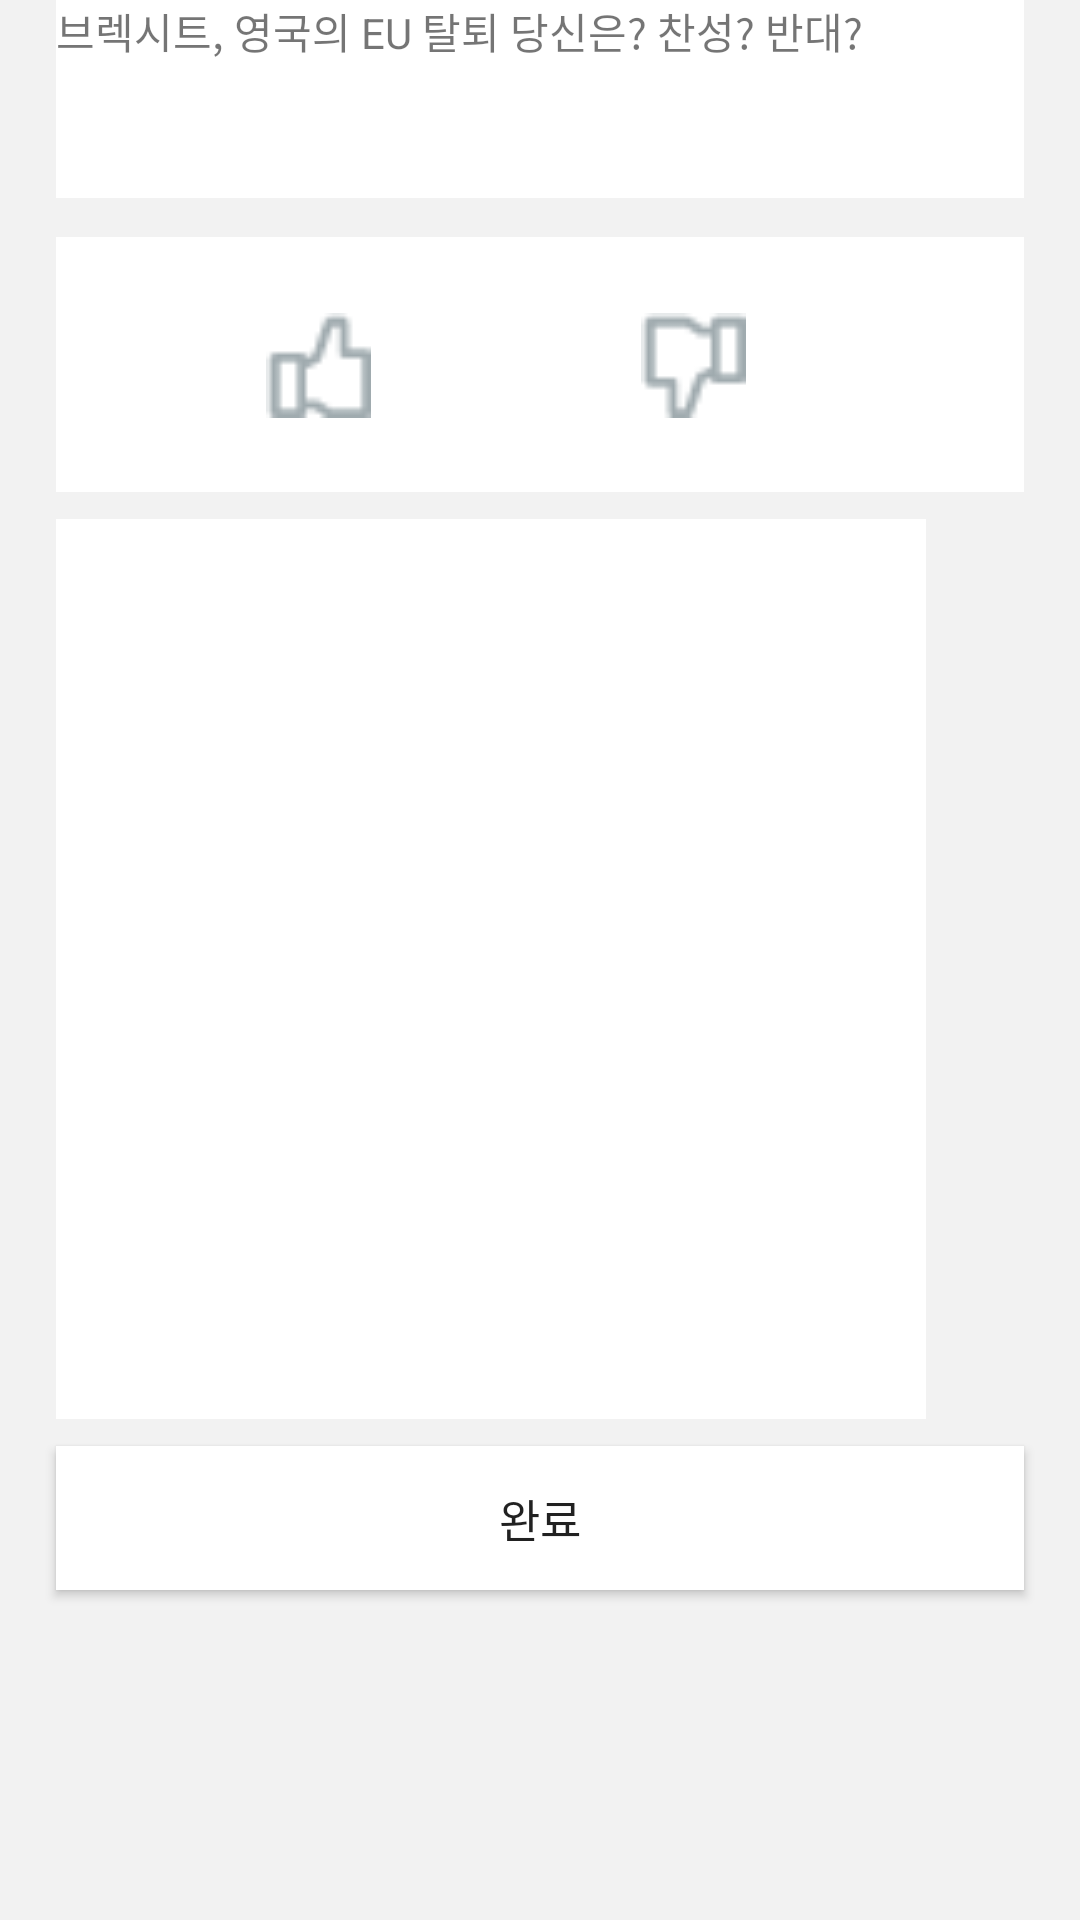

Where to tap for icons on this 1080 x 1920 app screen, as (x=x, y=y):
hate before: (x=695, y=367)
like before: (x=320, y=367)
